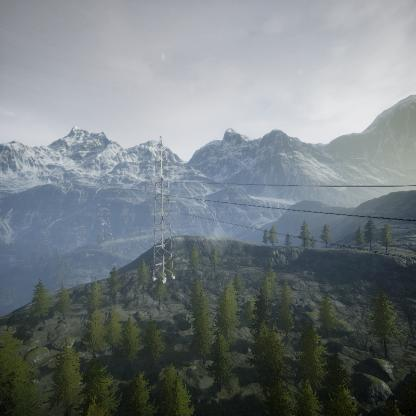tower: (144, 136, 180, 282)
